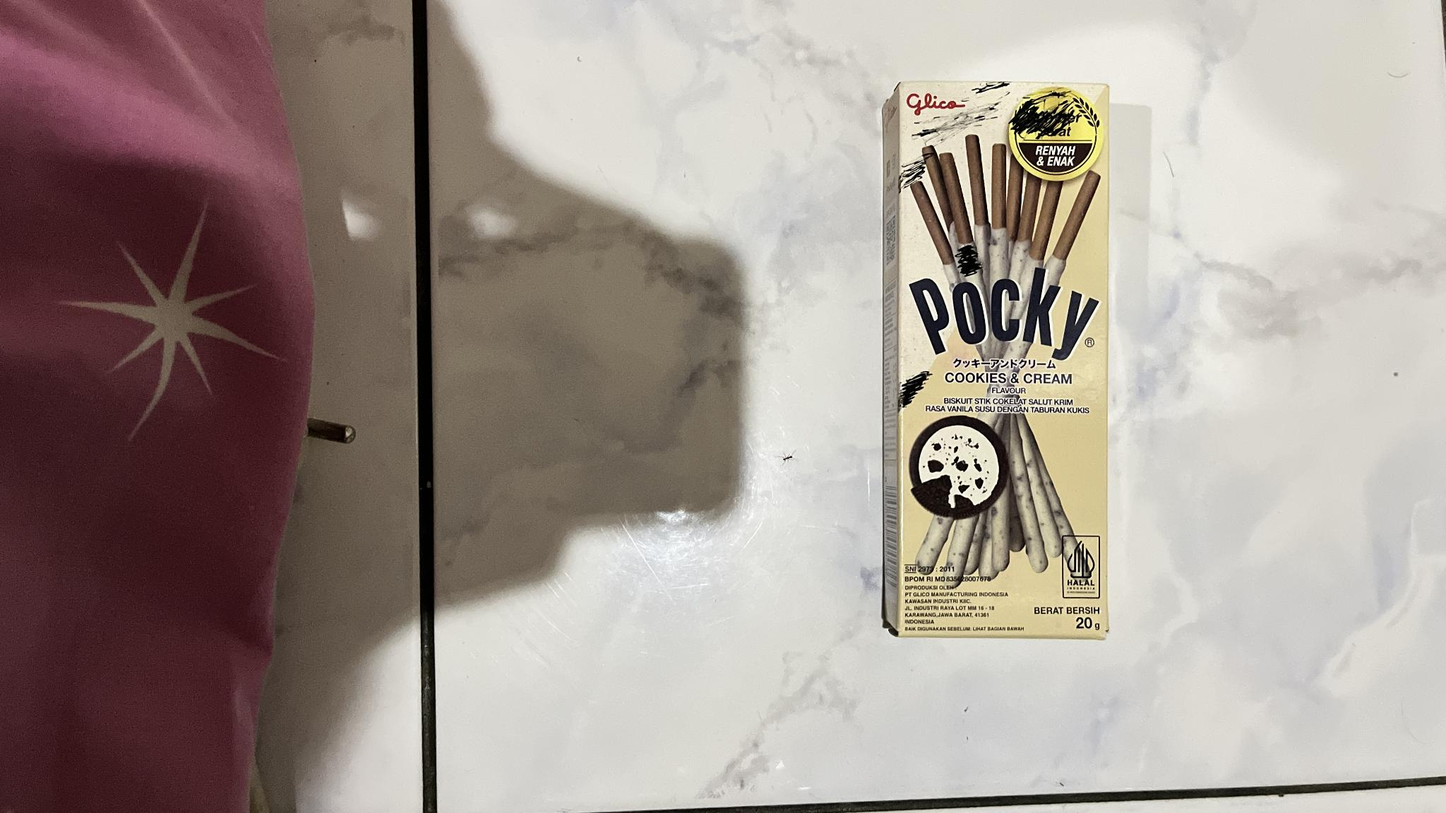Kertas: (895, 75, 1114, 640)
